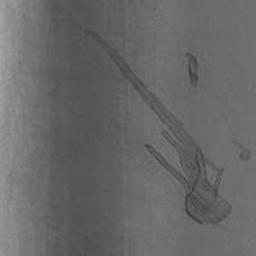Water spot: (84, 29, 232, 225), (230, 137, 252, 161), (184, 51, 198, 87)
